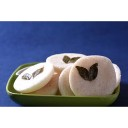idly: (71, 56, 116, 96), (14, 62, 53, 92), (49, 52, 85, 68), (56, 67, 73, 97)
